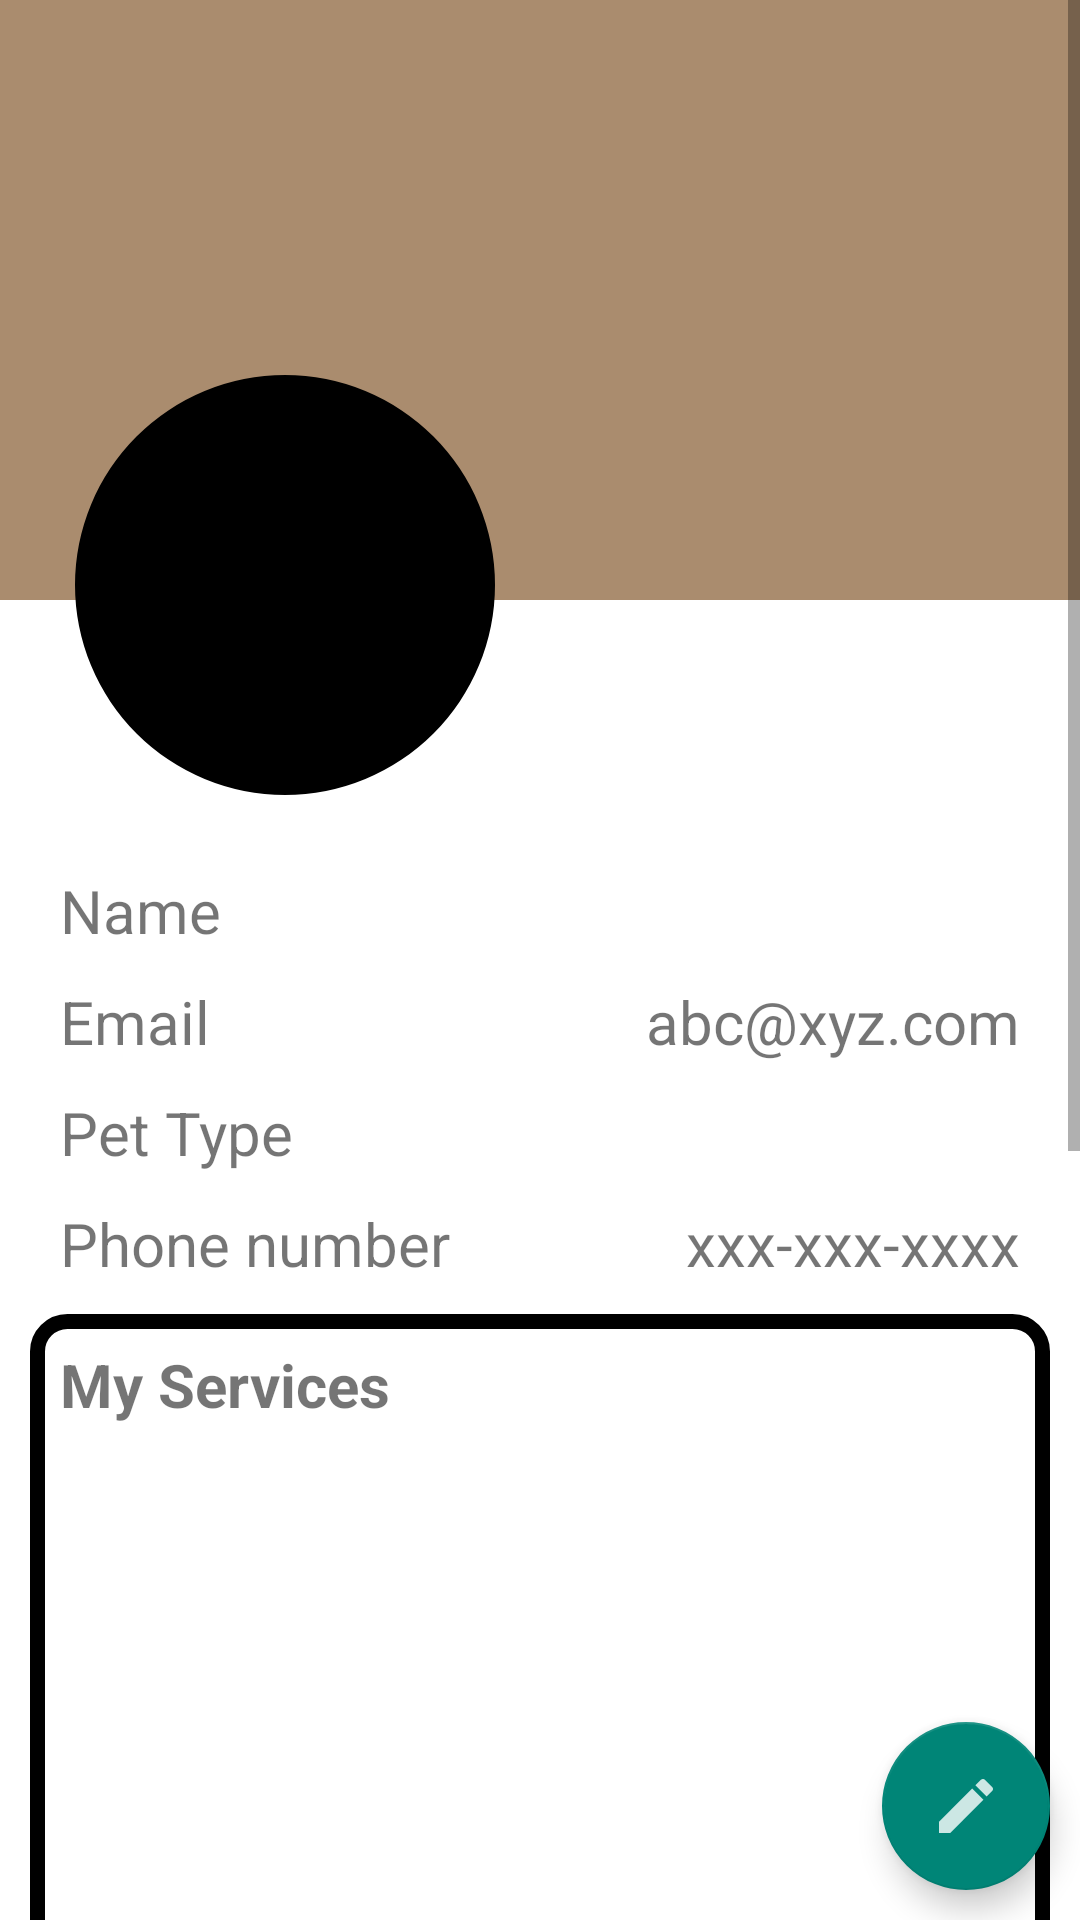

Icon bounding boxes for this 1080 x 1920 phone screenshot, format (x1, y1, x2, y2):
edit: (882, 1722, 1050, 1890)
